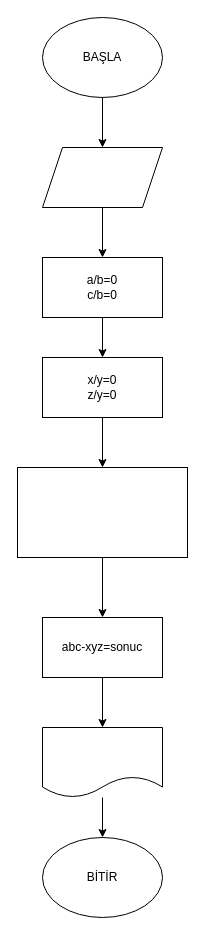
The diagram is 205 pixels wide and 935 high, and some of its shapes have lost their labels. The shapes that lost their labels are listed below. From the top down, each one's box as (x1, y1, x2, y2) in pixels, then its label:
(42, 146, 162, 208): a,b,c,x,y,z,sonuc
(16, 466, 188, 558): a=9 b=3 c=6 x=2 y=1 z=3
(42, 726, 162, 798): sonuc
